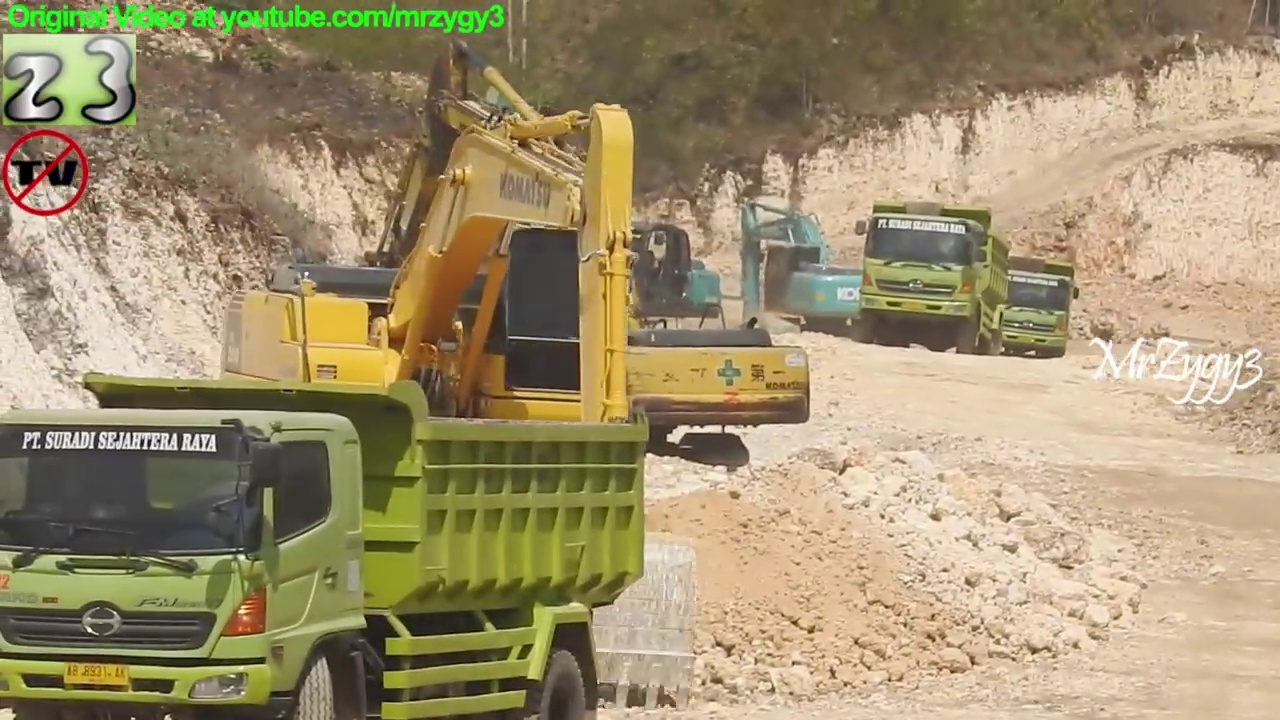excavator: (169, 95, 712, 716), (350, 30, 819, 499), (460, 85, 731, 369), (727, 196, 877, 344)
truck: (1, 367, 661, 720), (851, 199, 1012, 359), (962, 250, 1086, 364)
